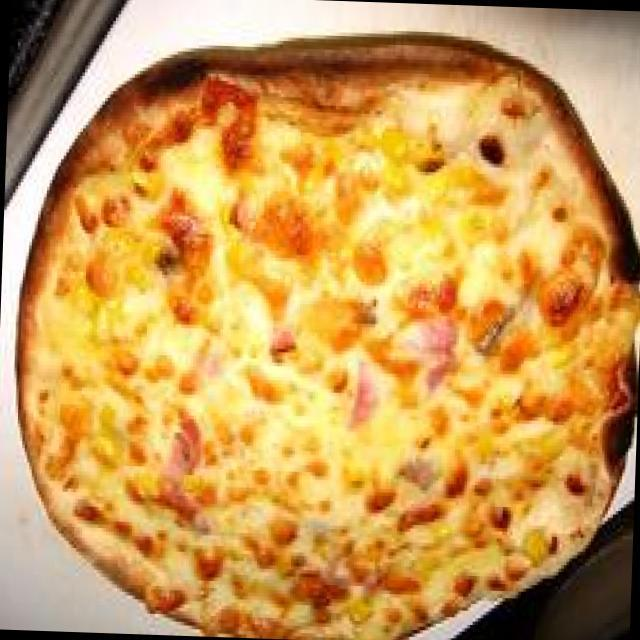Pizza: (0, 16, 640, 640)
